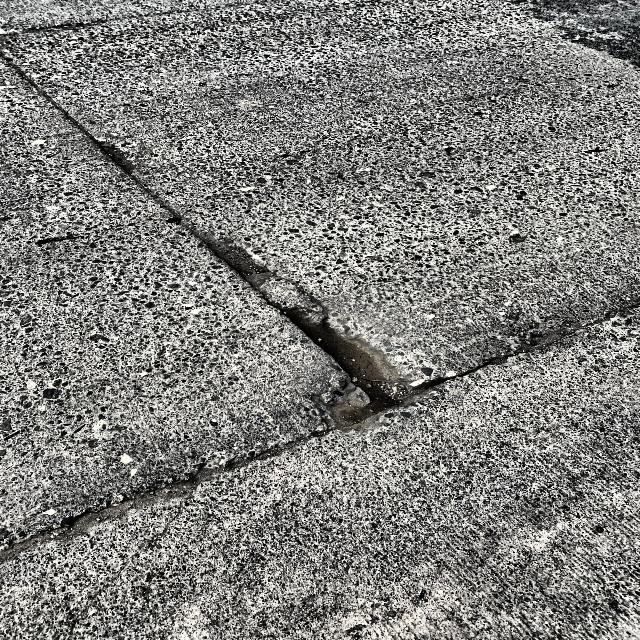major_scaling: (21, 5, 637, 347), (33, 325, 628, 640), (0, 61, 361, 541)
